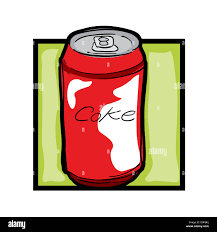can: (58, 26, 146, 189)
